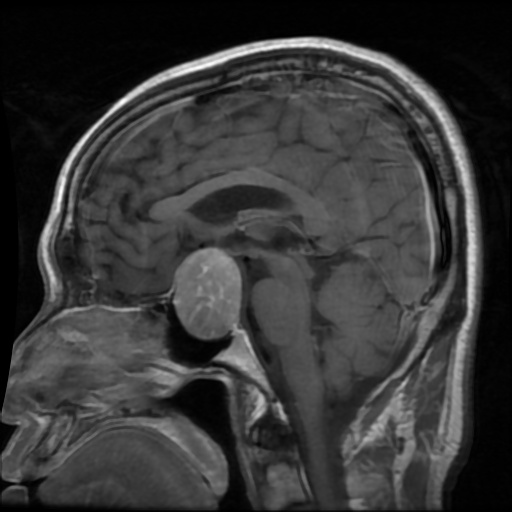pituitary: (172, 245, 242, 338)
